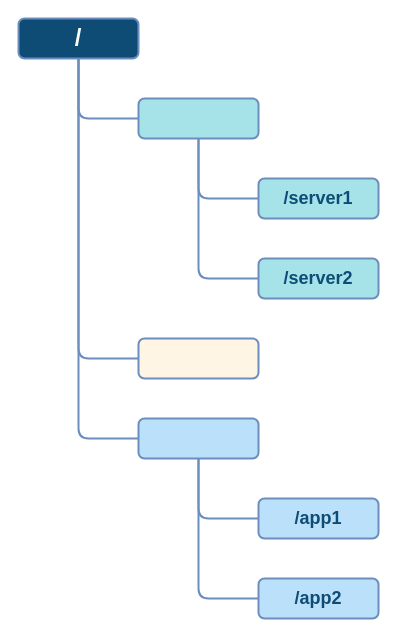
Some shapes in this 396 by 636 pixel diagram are drawn without their labels. The shapes that lost their labels are listed below. From the top down, each one's centre as x and y in pixels, then its label:
At (198,118): "/servers".
At (198,358): "/configs".
At (198,438): "/apps".
